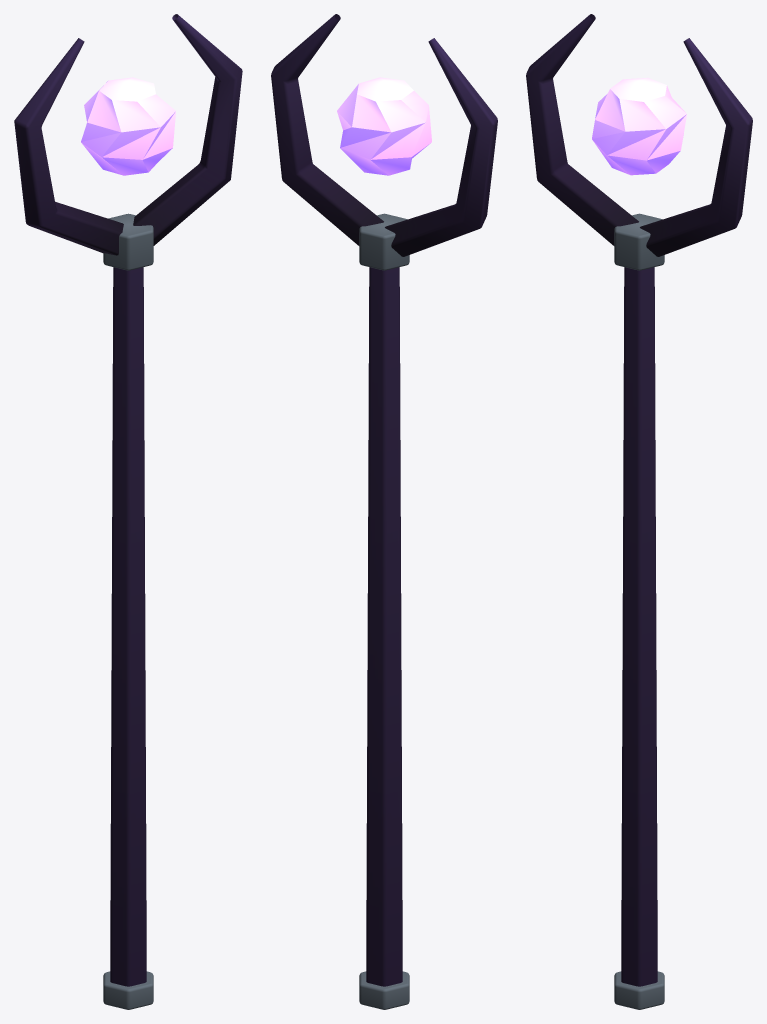
File: shadow_staff.glb
The picture shows the model from 3 angles, left to right: view 1: azimuth 30°, elevation 25°; view 2: azimuth 150°, elevation 25°; view 3: azimuth 330°, elevation 25°; orthographic projection.
Visible parts, largest first — view 1: shadow_staff, shadow_staff_glow; view 2: shadow_staff, shadow_staff_glow; view 3: shadow_staff, shadow_staff_glow.
Boxes of the visible parts, x1,y1,x2,y2 form: shadow_staff: (14,14,242,1009); shadow_staff_glow: (81,77,175,175); shadow_staff: (271,14,497,1009); shadow_staff_glow: (337,77,431,175); shadow_staff: (526,14,752,1009); shadow_staff_glow: (592,77,686,175).
Bounding box in the file's own units: 0.6681 × 2.78 × 0.2411.
